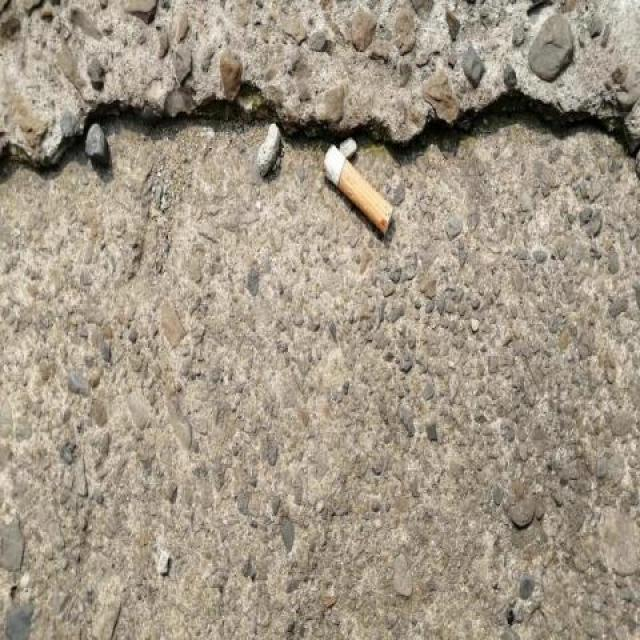non-organic waste: (315, 136, 398, 241)
